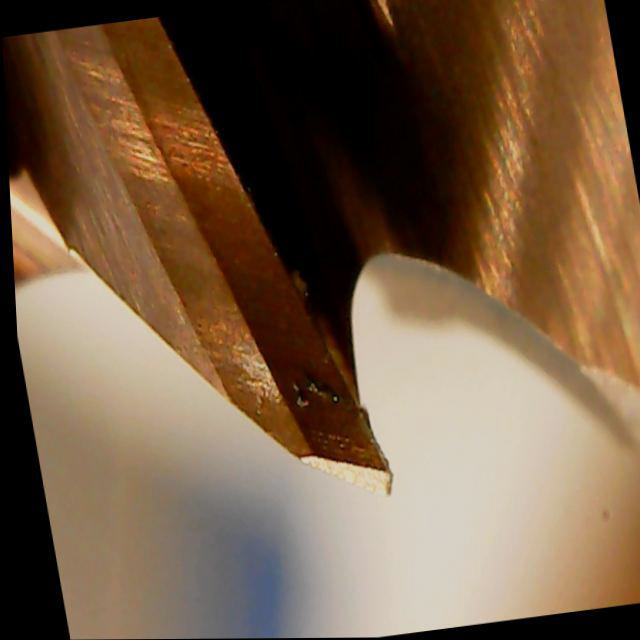Tool-wear-class-1: (195, 263, 395, 533)
